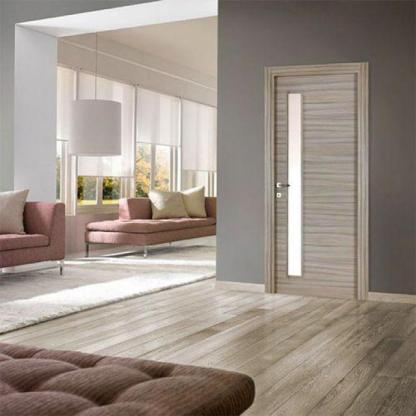door: (259, 59, 369, 303)
